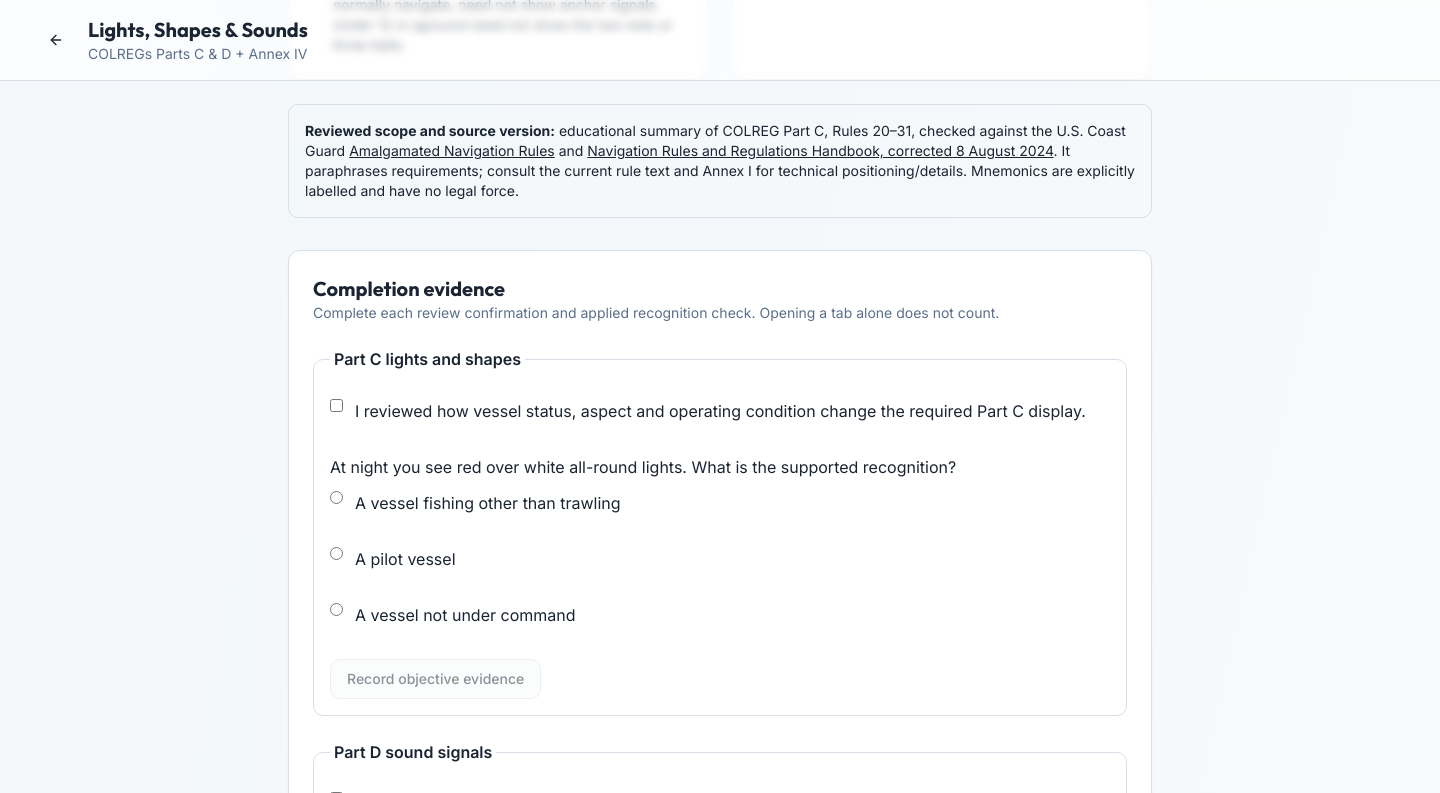
LightsTheory real persistence transitions › does not claim evidence persistence when the real hook reports failure
(page scrolled)
Step 1. Click the checkbox labelled "I reviewed how vessel status" → (336, 406), box [330,399,343,412]
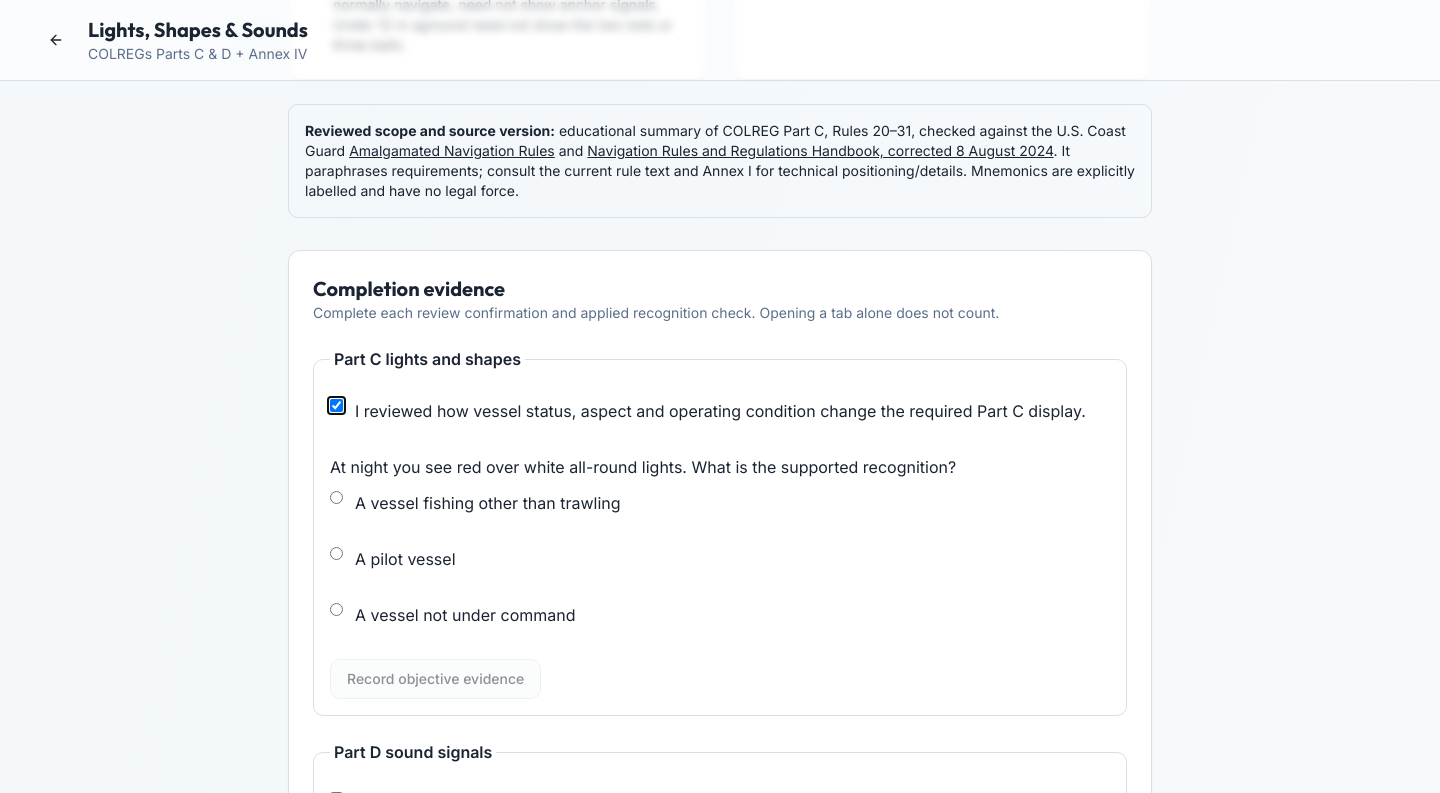
Step 2. Click the radio button labelled "A vessel fishing other than trawling" → (336, 498), box [330,491,343,504]
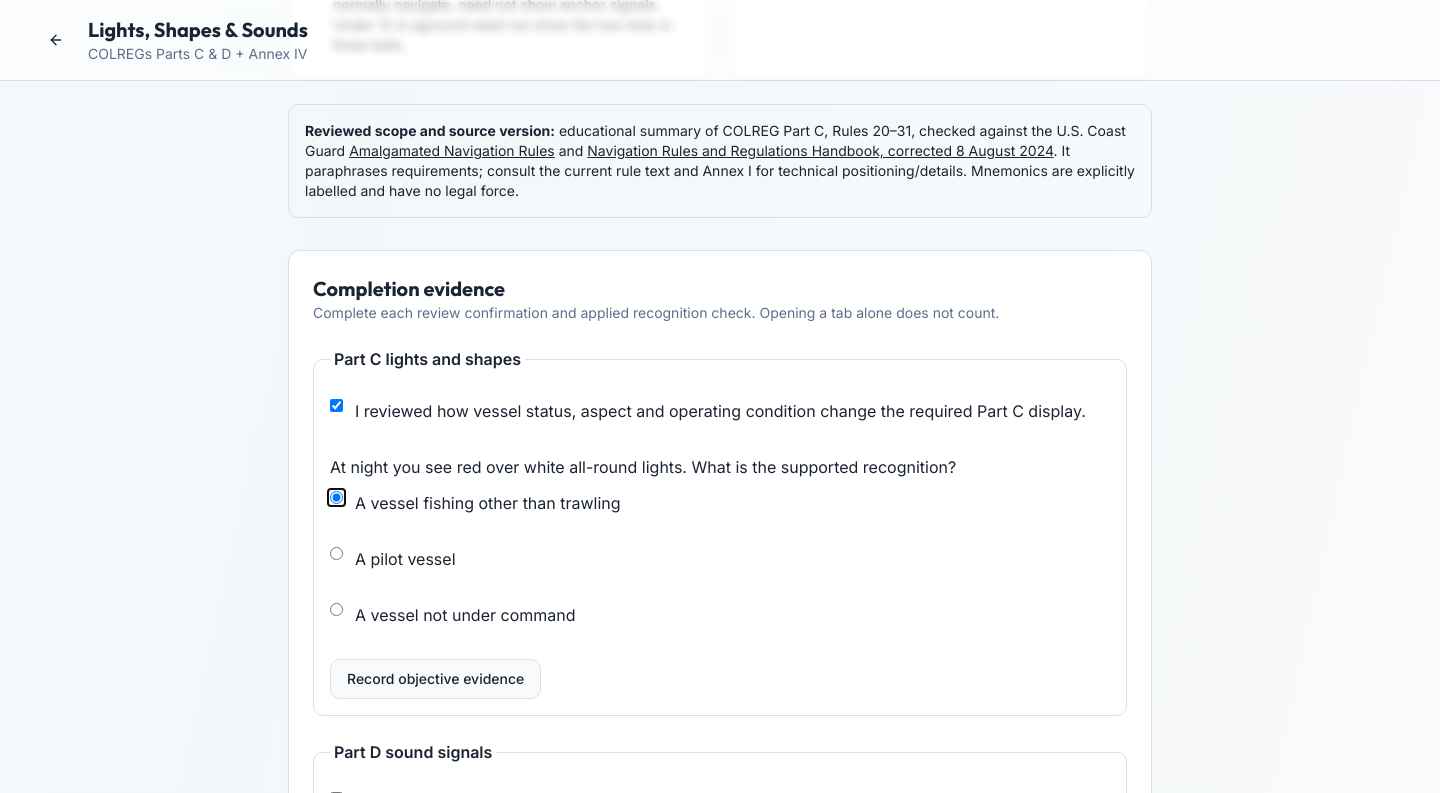
Step 3. Click the button "Record objective evidence" → (436, 679), box [330,659,541,699]
(page scrolled)
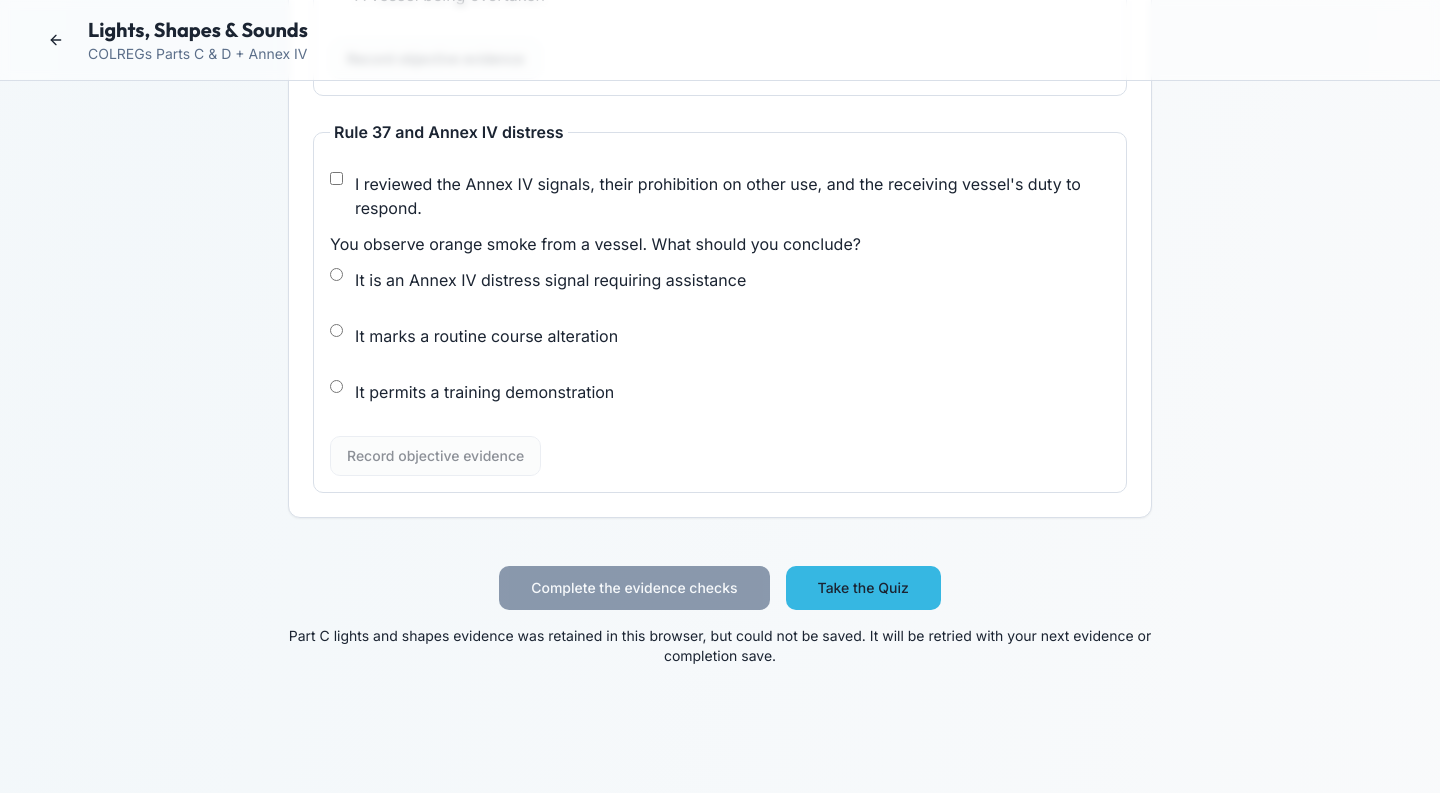
Check: the message shows "could not be saved", box [289,627,1151,664]
